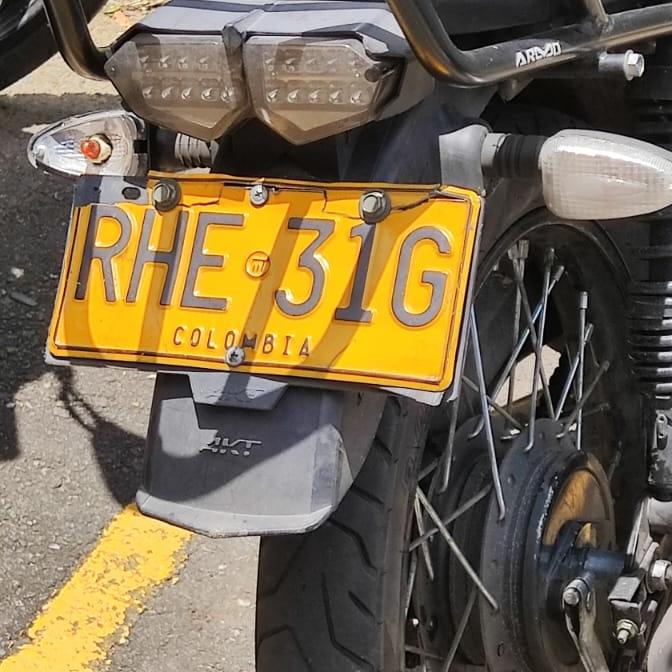plates: (45, 177, 478, 393)
